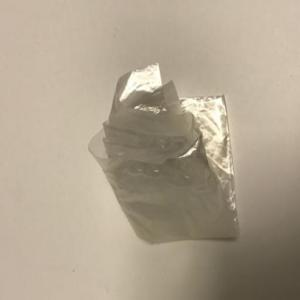Trash: (88, 62, 242, 245)
